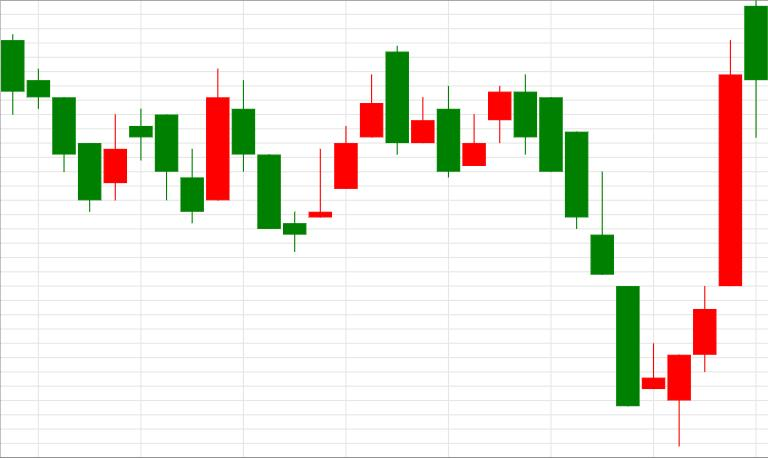three_white_soldiers_rise: (514, 40, 741, 448)
